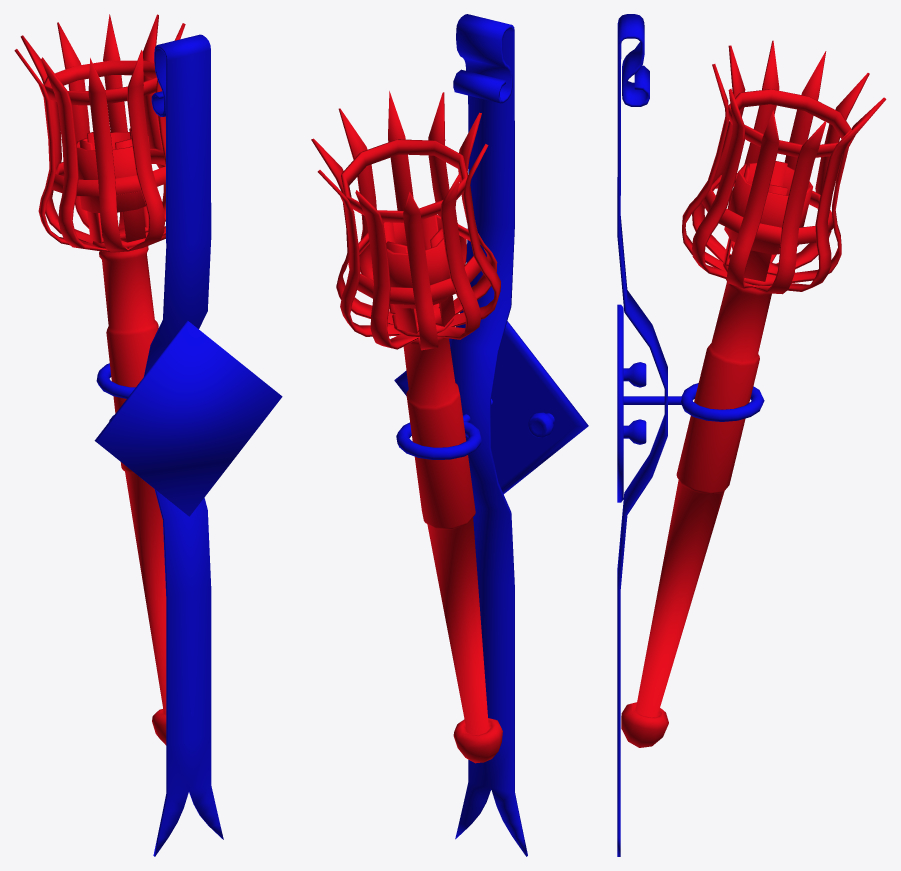
Rendered from TorchBase.fbx.
3 views of the same model, side by side, from view 1: azimuth 30°, elevation 25°; view 2: azimuth 150°, elevation 25°; view 3: azimuth 270°, elevation 25° (orthographic). The views are drawn at different scales.
Visible parts, largest first — view 1: Torchin; view 2: Torchin; view 3: Torchin.
Boxes of the visible parts, bbox=[...] form: Torchin: bbox=[14, 14, 282, 856]; Torchin: bbox=[311, 14, 588, 856]; Torchin: bbox=[617, 14, 886, 856].
Size of what is drawn, in the model's own units: 0.1977 by 0.8131 by 0.2433.
